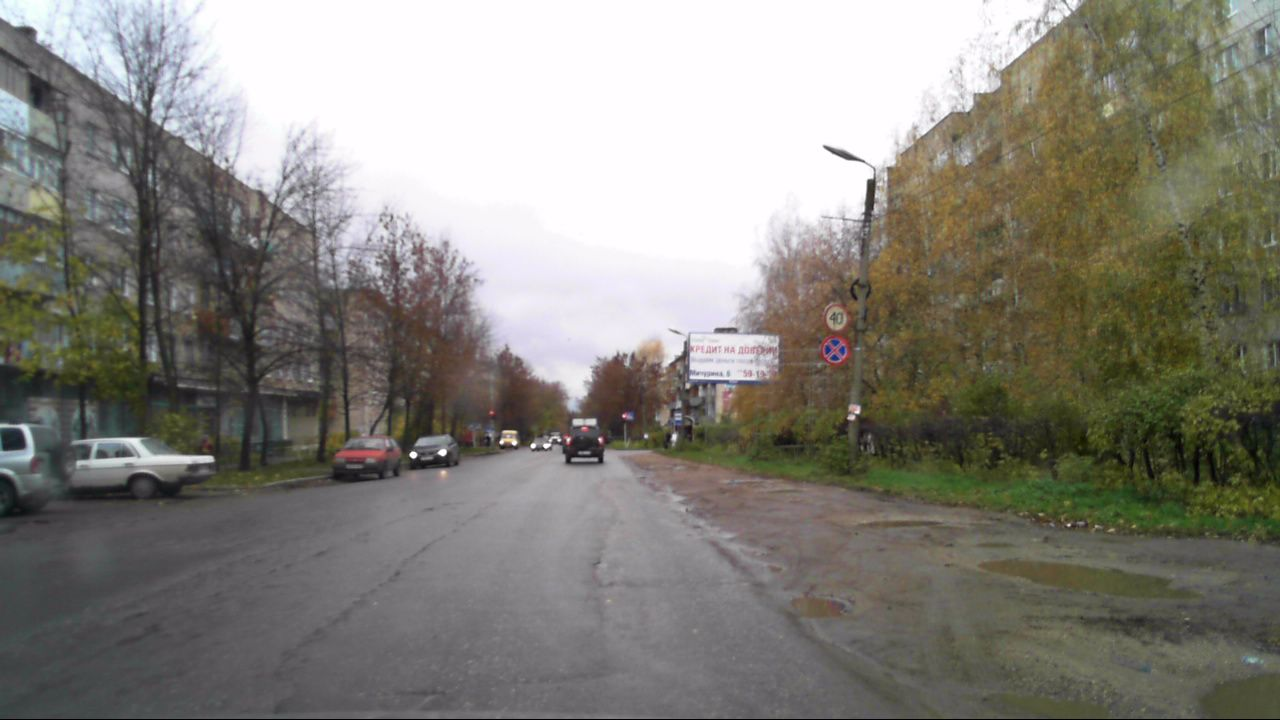No Parking: (819, 334, 852, 366)
speed_warning_40: (823, 300, 852, 334)
